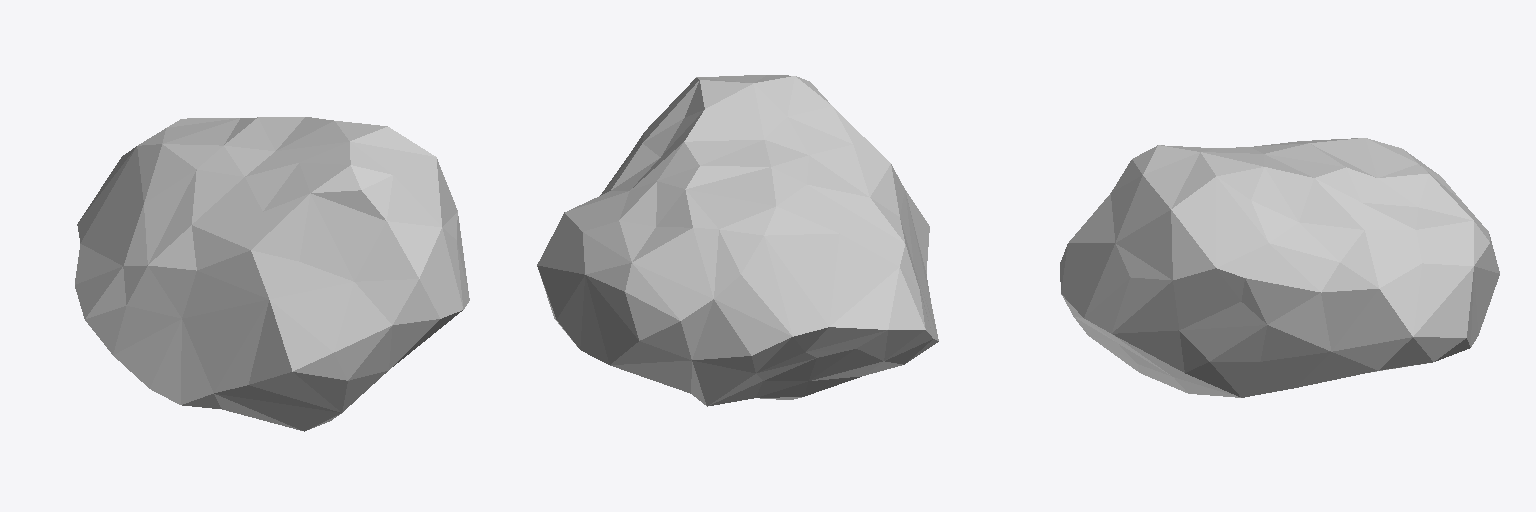
The model's file is Rock2_Cage.obj.
3 renders of one model, left to right at view 1: azimuth 30°, elevation 25°; view 2: azimuth 150°, elevation 25°; view 3: azimuth 270°, elevation 25°, orthographic.
Parts seen in each view (by area): view 1: Cage_Rock2_Low.001; view 2: Cage_Rock2_Low.001; view 3: Cage_Rock2_Low.001.
Part boxes in pixels (x1,y1,x2,y2): Cage_Rock2_Low.001: (75, 117, 469, 431); Cage_Rock2_Low.001: (537, 75, 938, 406); Cage_Rock2_Low.001: (1060, 138, 1499, 397).
Size of the model in its own units: 1.57 by 1.19 by 1.82.